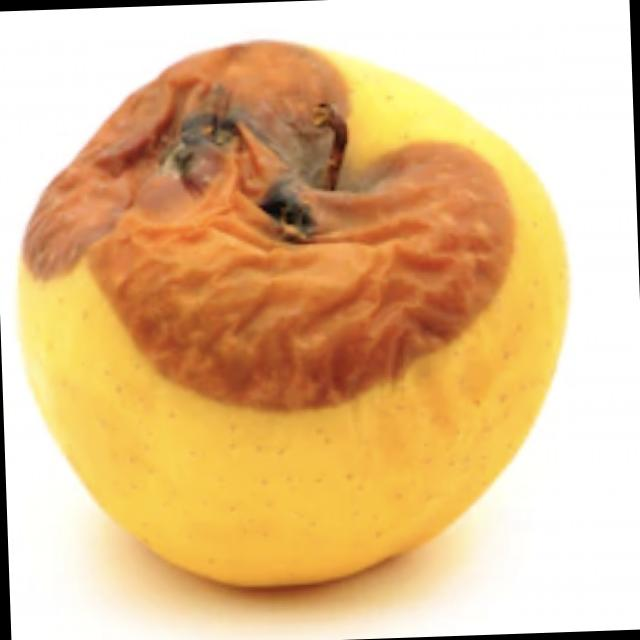rotten_apple: (6, 25, 578, 599)
